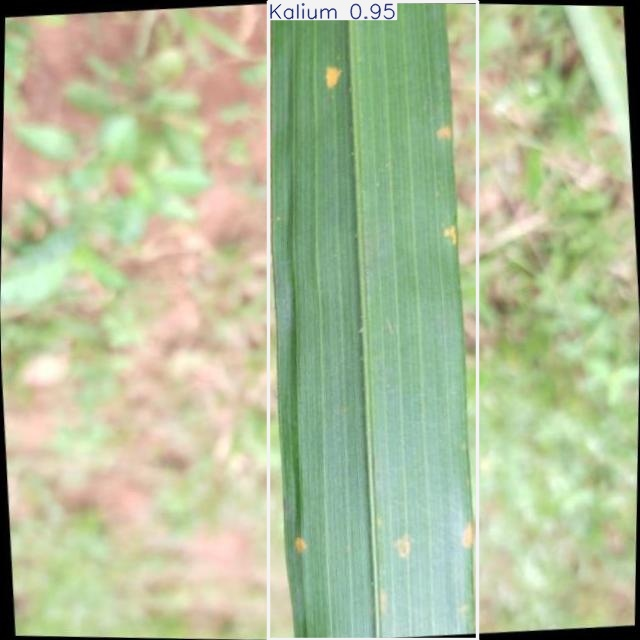Kalium: (269, 2, 478, 639)
